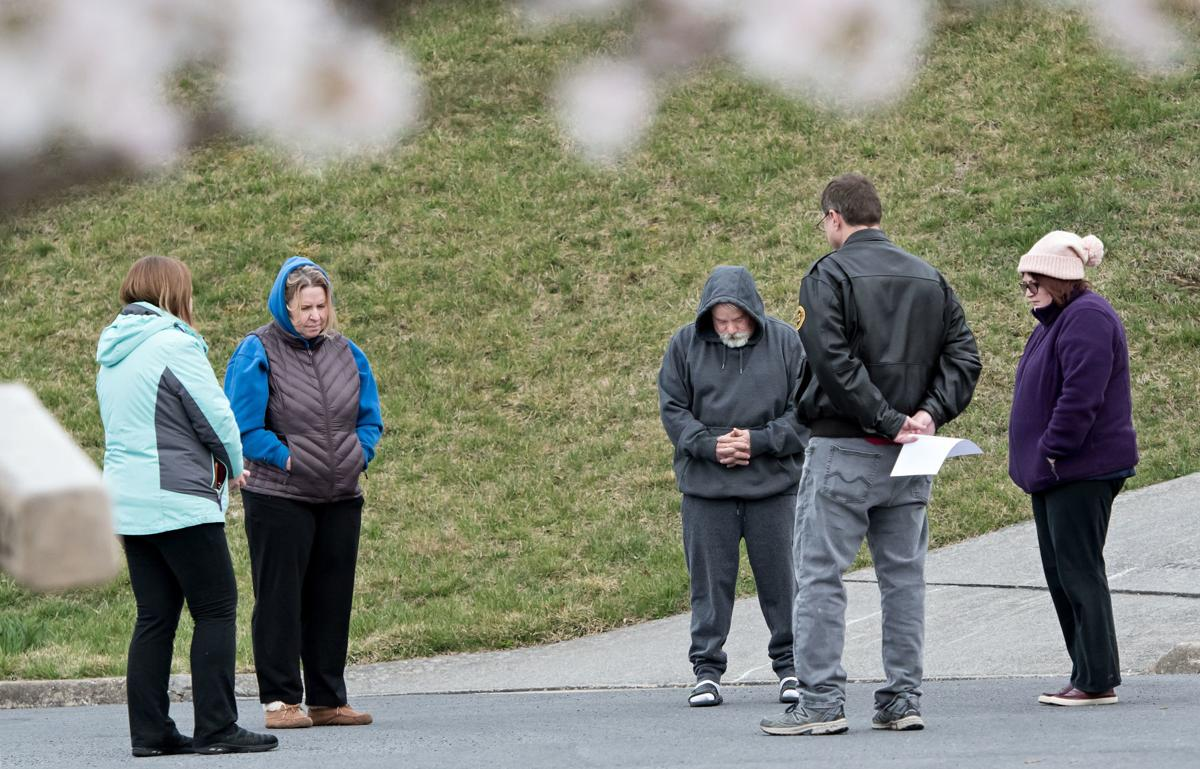Caution: (229, 253, 804, 731), (757, 177, 1142, 733), (655, 177, 983, 738), (93, 248, 385, 763)
